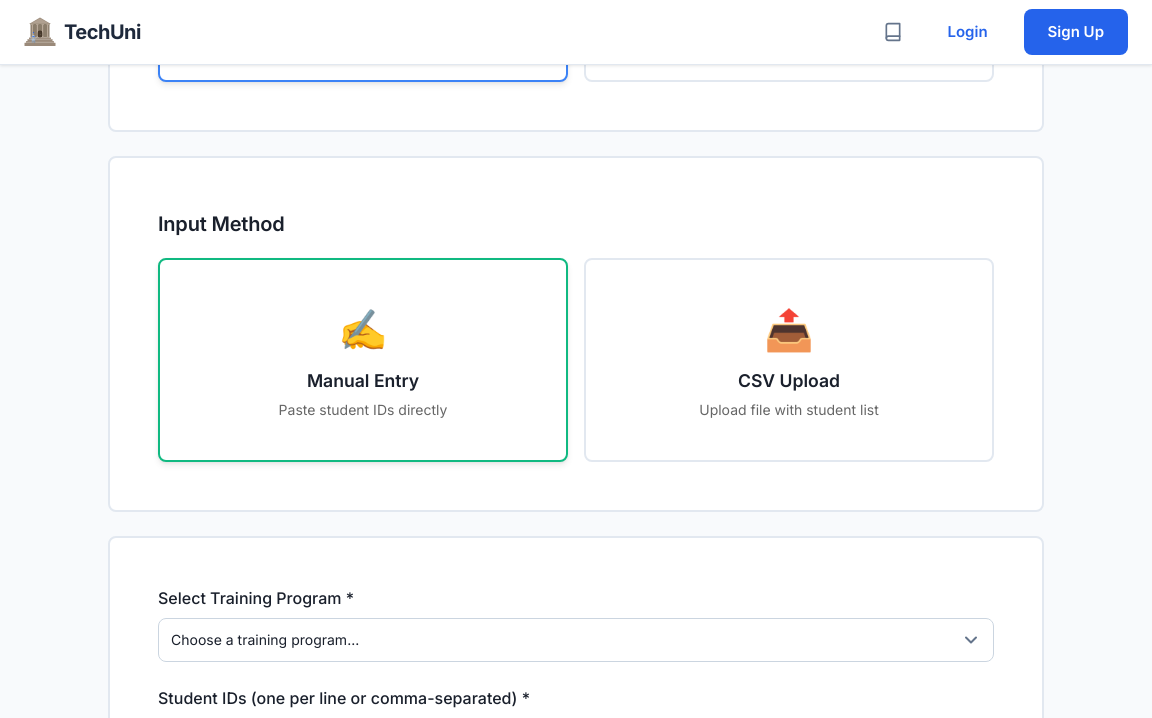
BulkEnrollStudents Component › CSV Upload › switches to CSV upload mode
(page scrolled)
Expected: the heading "Input Method" is shown, [158,212,284,236]
Click the text "📤 CSV Upload Upload file with student list" at x=789, y=360, box [584,258,994,462]
(page scrolled)
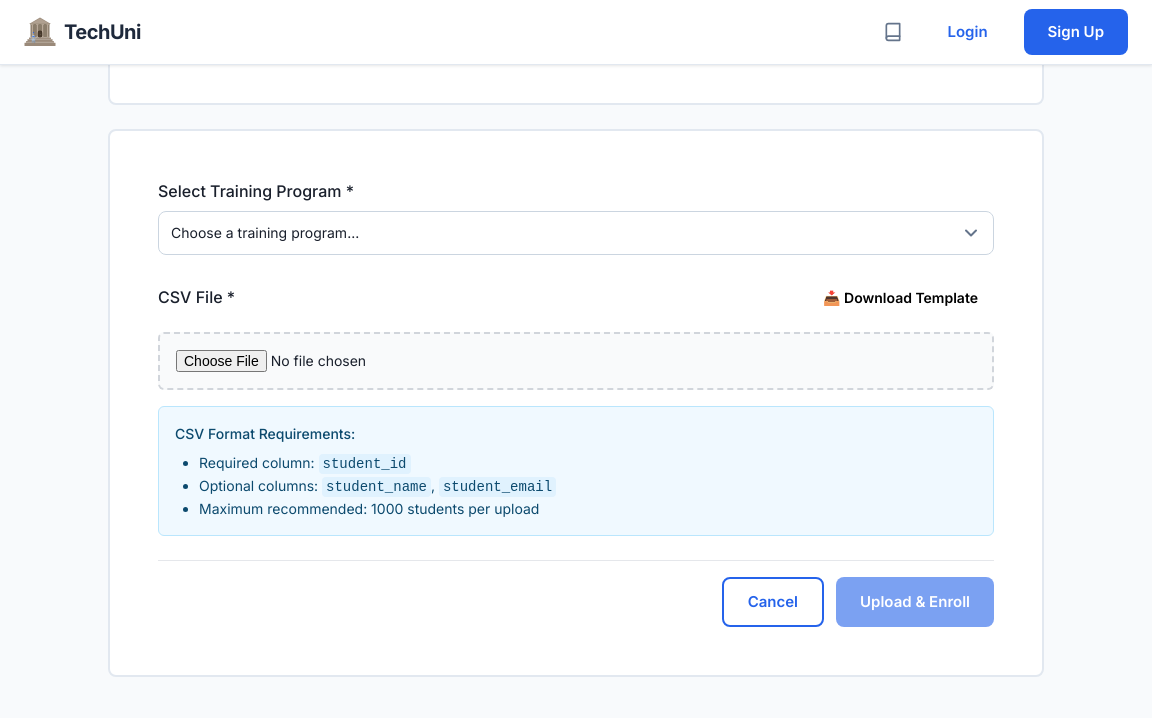
Result: the file field labelled "CSV File *" is shown at [158,332,994,390]
